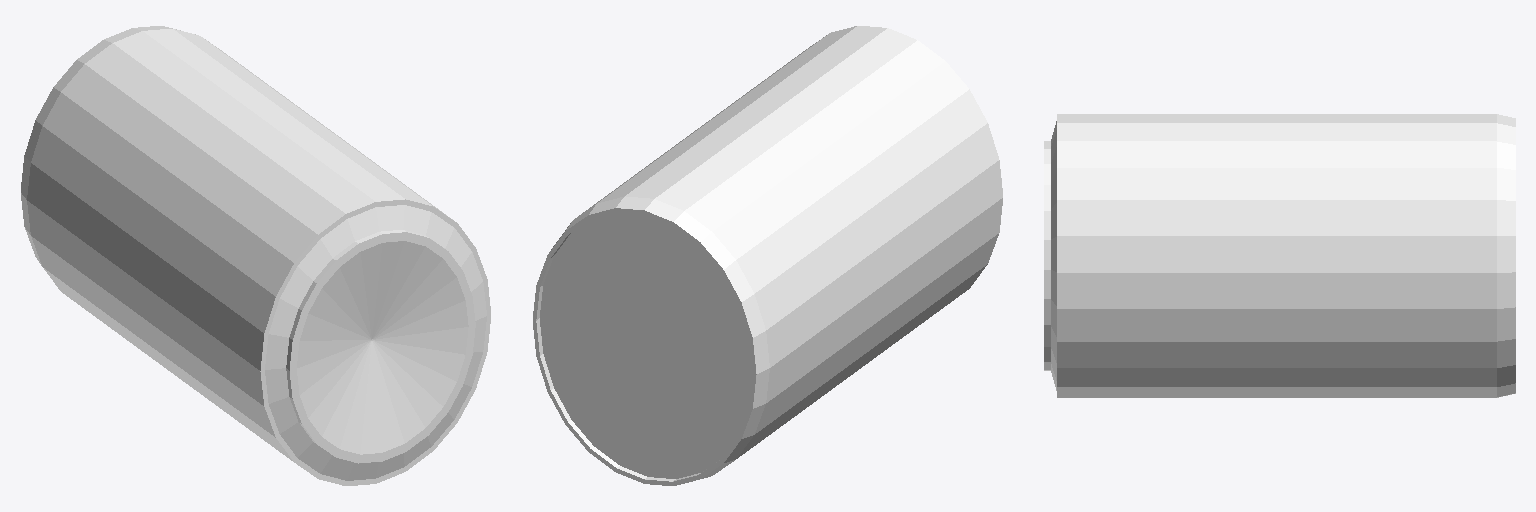
robot.urdf — textured:
<?xml version="1.0" ?>
<robot name="textured">
  <link name="base_link">
    <contact>
      <lateral_friction value="1.0"/>
      <rolling_friction value="1.0"/>
      <spinning_friction value="1.0"/>
      <inertia_scaling value="1.0"/>
    </contact>
    <inertial>
      <origin rpy="0 0 0" xyz="0 0 -0.08"/>
       <mass value="1.0"/>
       <inertia ixx="1" ixy="0" ixz="0" iyy="1" iyz="0" izz="1"/>
    </inertial>
    <visual>
      <origin rpy="0 0 0" xyz="0 0 -0.04"/>
      <geometry>
        <mesh filename="model.obj" scale=".6 .6 .7"/>
      </geometry>
      <material name="white">
        <color rgba="1 1 1 1"/>
      </material>
    </visual>
    <collision>
      <origin rpy="0 0 0" xyz="0 0 0"/>
      <geometry>
        <mesh filename="model.obj" scale=".6 .6 .7"/>
      </geometry>
    </collision>
  </link>
</robot>

--- Render facts (derived) ---
Views: 3 orthographic renders of the robot side by side, from view 1: azimuth 30°, elevation 25°; view 2: azimuth 150°, elevation 25°; view 3: azimuth 270°, elevation 25°.
Robot: textured — 1 links, 0 joints (none); root link base_link; default pose: all joints at 0.
Visible links, largest first — view 1: base_link; view 2: base_link; view 3: base_link.
Link boxes in pixels (bbox=[...]): base_link: bbox=[21, 26, 490, 485]; base_link: bbox=[533, 26, 1002, 485]; base_link: bbox=[1044, 114, 1515, 397].
Bounding box of the posed robot: 0.2555 × 0.479 × 0.2981 m (x, y, z).
1 mesh visuals loaded from 1 distinct referenced files (1 OBJ).